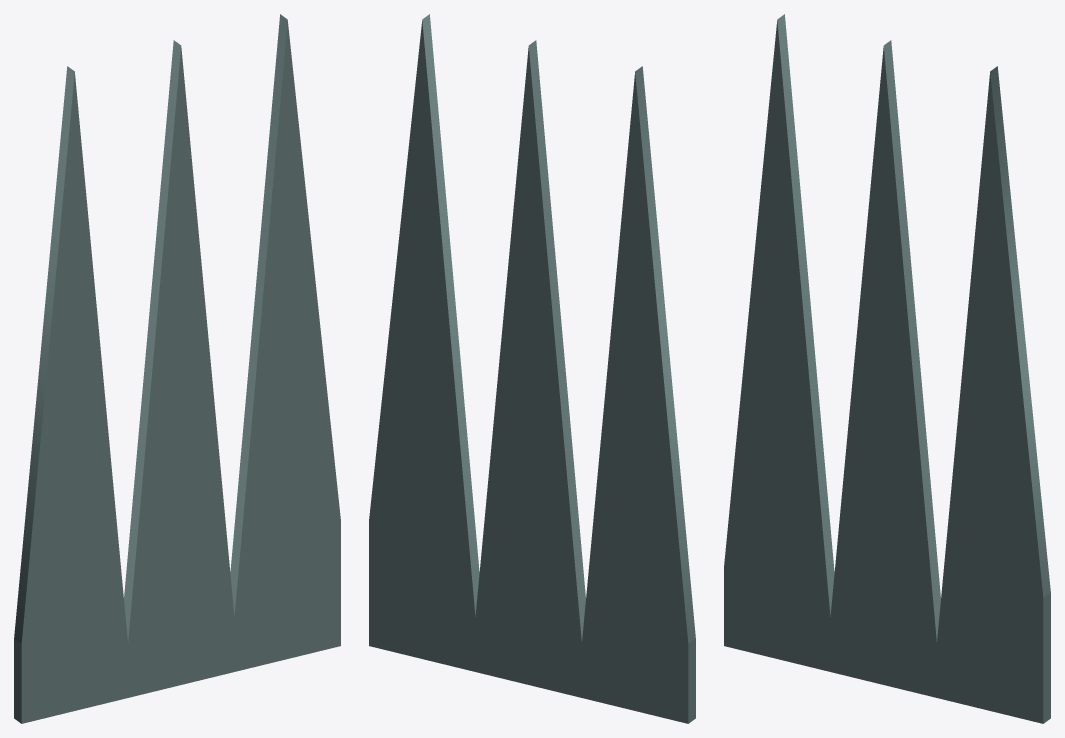
The model's file is grass2.fbx.
3 renders of one model, left to right at view 1: azimuth 30°, elevation 25°; view 2: azimuth 150°, elevation 25°; view 3: azimuth 330°, elevation 25°, orthographic.
Parts seen in each view (by area): view 1: grass2; view 2: grass2; view 3: grass2.
Boxes of the visible parts, bbox=[...] form: grass2: bbox=[14, 14, 340, 723]; grass2: bbox=[369, 14, 695, 723]; grass2: bbox=[724, 14, 1050, 723].
Bounding box in the file's own units: 34.04 × 65.15 × 1.4.
